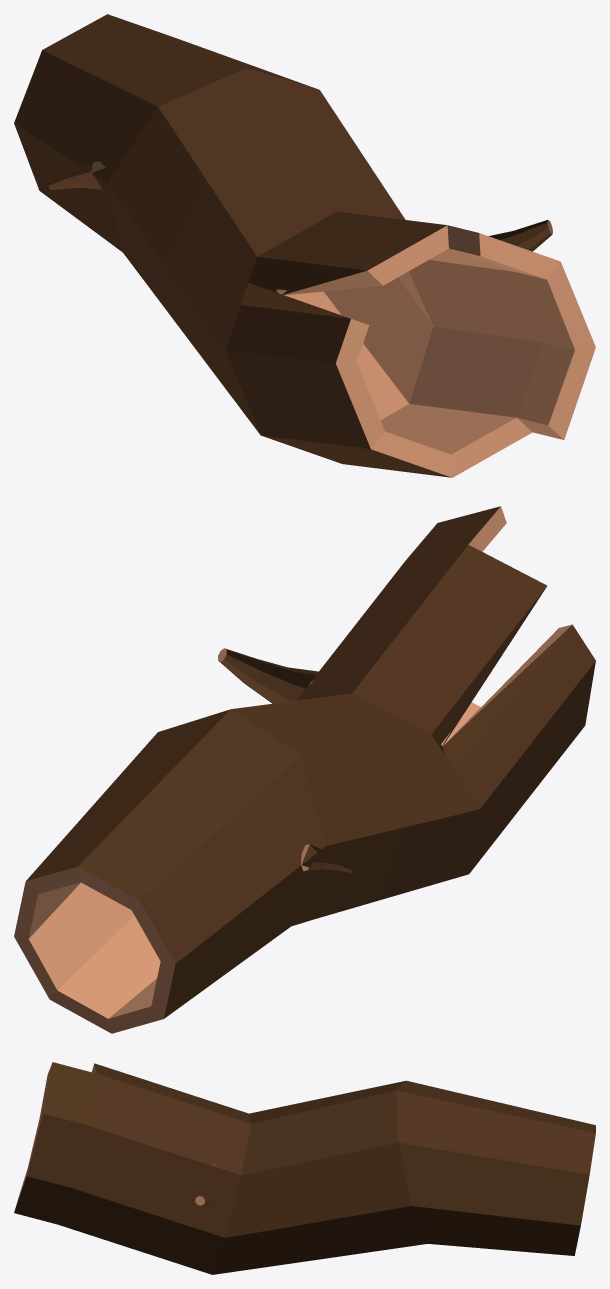
Rendered from log.fbx.
The picture shows the model from 3 angles, top to bottom: view 1: azimuth 30°, elevation 25°; view 2: azimuth 150°, elevation 25°; view 3: azimuth 270°, elevation 25°; orthographic projection. The views are drawn at different scales.
Visible parts, largest first — view 1: Circle; view 2: Circle; view 3: Circle.
Boxes of the visible parts, <box> form: Circle: <box>14,14,595,477</box>; Circle: <box>14,506,595,1033</box>; Circle: <box>14,1062,595,1274</box>.
Size of the model in its own units: 288 by 270 by 682.
